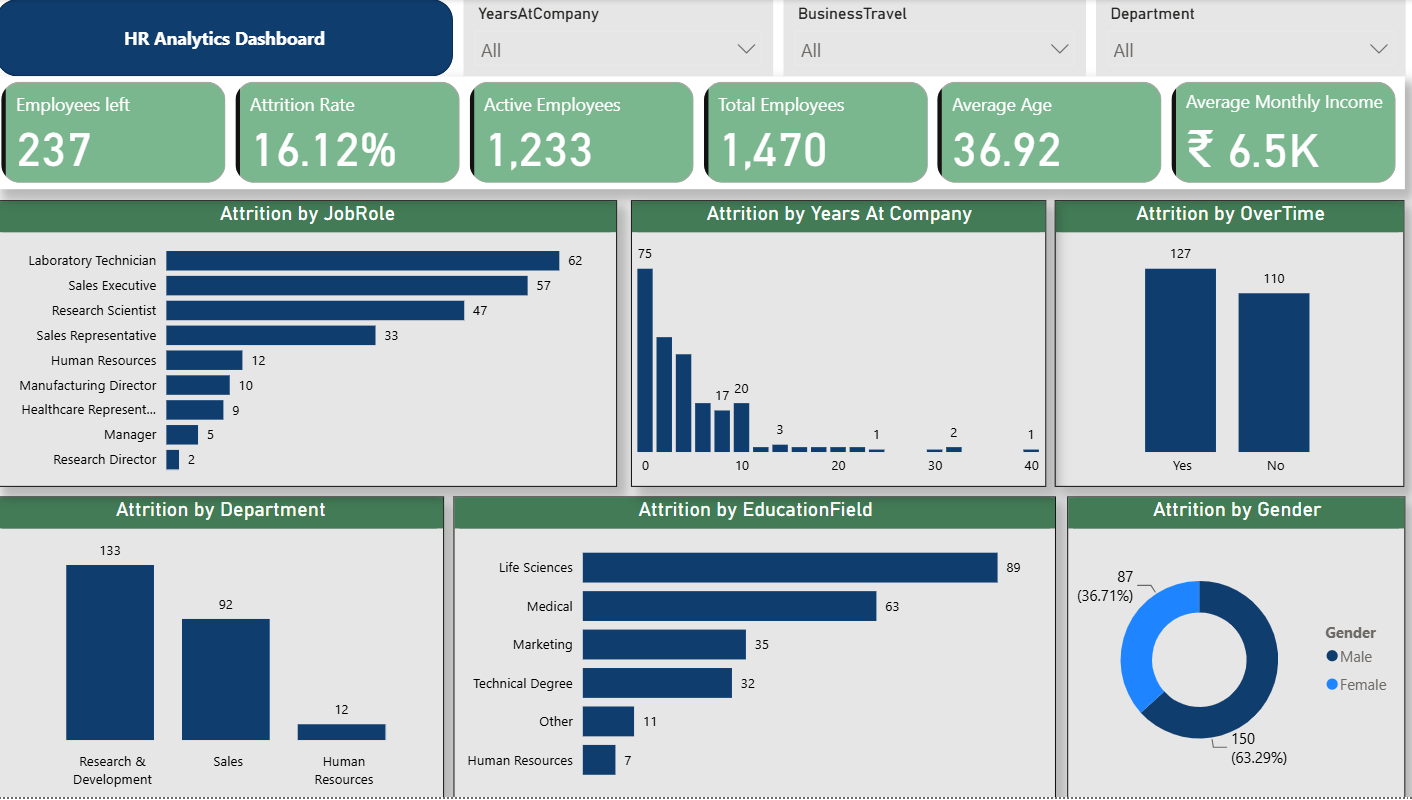

This screenshot's page, from the dashboard's own definition file:
{"tool":"powerbi","page":{"name":"Page 1","canvas":[1280,720],"ordinal":0},"visuals":[{"type":"columnChart","title":"Attrition by Department","fields":{"Category":["HR dataset.Department"],"Y":["HR dataset.Employees left"]},"box":[0,448.1,403.7,271.6],"z":0},{"type":"barChart","title":"Attrition by JobRole","fields":{"Category":["HR dataset.JobRole"],"Y":["HR dataset.Employees left"]},"box":[0,181,560.1,258],"z":1000},{"type":"columnChart","title":"Attrition by OverTime","fields":{"Category":["HR dataset.OverTime"],"Y":["HR dataset.Employees left"]},"box":[955,181,315.5,258],"z":2000},{"type":"barChart","title":"Attrition by EducationField","fields":{"Category":["HR dataset.EducationField"],"Y":["HR dataset.Employees left"]},"box":[412.3,448.1,543.2,271.6],"z":3000},{"type":"donutChart","title":"Attrition by Gender","fields":{"Category":["HR dataset.Gender"],"Y":["HR dataset.Employees left"]},"box":[965.4,448.1,304.9,271.6],"z":4000},{"type":"columnChart","title":"Attrition by Years At Company","fields":{"Category":["HR dataset.YearsAtCompany (bins)"],"Y":["HR dataset.Employees left"]},"box":[572.3,181,374.2,258],"z":5000},{"type":"shape","box":[0,0,412.1,69.7],"z":6000},{"type":"cardVisual","fields":{"Data":["HR dataset.Employees left","HR dataset.Attrition Rate","HR dataset.Active employees","HR dataset.Total Employees","HR dataset.Average Age","HR dataset.Avg Monthly income"]},"box":[0,69.7,1270.5,101.5],"z":7000},{"type":"slicer","fields":{"Values":["HR dataset.YearsAtCompany"]},"box":[421.9,0,278.8,69.7],"z":8000},{"type":"slicer","fields":{"Values":["HR dataset.BusinessTravel"]},"box":[710.5,0,272.7,69.7],"z":9000},{"type":"slicer","fields":{"Values":["HR dataset.Department"]},"box":[991.7,0,278.8,69.7],"z":10000}]}

Visuals, with their boxes in screenshot pixels (x1, y1, x2, y2), scaled from the page's 1280x720 canvas onto the 1412x800 screenshot:
"Attrition by Department" columnChart: (x1=0, y1=498, x2=445, y2=799)
"Attrition by JobRole" barChart: (x1=0, y1=201, x2=618, y2=488)
"Attrition by OverTime" columnChart: (x1=1053, y1=201, x2=1402, y2=488)
"Attrition by EducationField" barChart: (x1=455, y1=498, x2=1054, y2=799)
"Attrition by Gender" donutChart: (x1=1065, y1=498, x2=1401, y2=799)
"Attrition by Years At Company" columnChart: (x1=631, y1=201, x2=1044, y2=488)
shape: (x1=0, y1=0, x2=455, y2=77)
cardVisual - HR dataset.Employees left x HR dataset.Attrition Rate: (x1=0, y1=77, x2=1402, y2=190)
slicer - HR dataset.YearsAtCompany: (x1=465, y1=0, x2=773, y2=77)
slicer - HR dataset.BusinessTravel: (x1=784, y1=0, x2=1085, y2=77)
slicer - HR dataset.Department: (x1=1094, y1=0, x2=1402, y2=77)
